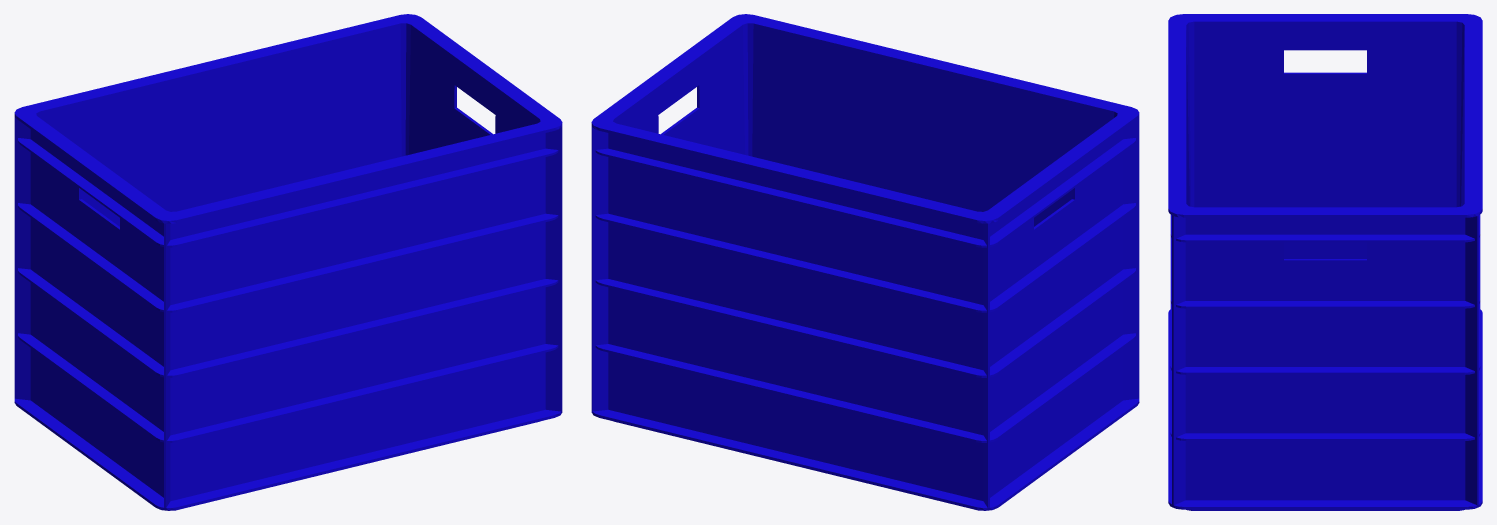
The model's file is ati_tray.dae.
The picture shows the model from 3 angles, left to right: view 1: azimuth 30°, elevation 25°; view 2: azimuth 150°, elevation 25°; view 3: azimuth 270°, elevation 25°; orthographic projection.
Visible parts, largest first — view 1: ati_tray; view 2: ati_tray; view 3: ati_tray.
Part boxes in pixels (x1,y1,x2,y2): ati_tray: (14, 14, 562, 510); ati_tray: (591, 14, 1139, 510); ati_tray: (1168, 14, 1482, 510).
Size of the model in its own units: 605 by 400 by 425.
